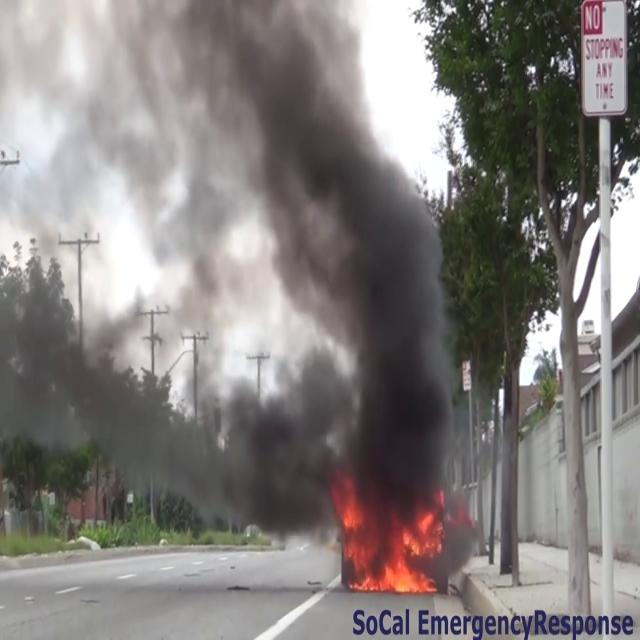Fire: (341, 497, 447, 597)
Smoke: (0, 0, 468, 539), (137, 0, 463, 543)
